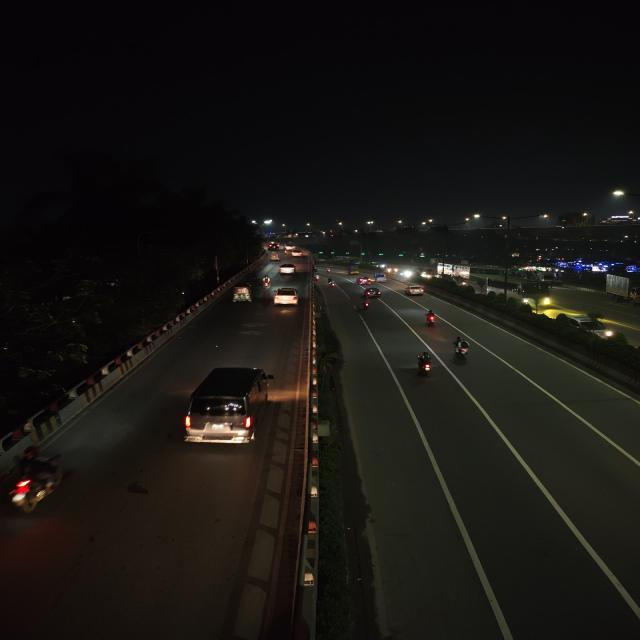bus: (180, 362, 275, 450)
car: (554, 311, 620, 341), (272, 286, 300, 308), (364, 286, 384, 300), (403, 284, 426, 296), (276, 262, 296, 275), (287, 248, 303, 258)
cng: (231, 283, 253, 304)
motorcycle: (2, 450, 67, 516), (448, 334, 474, 366), (412, 350, 436, 380), (420, 308, 440, 328), (360, 296, 373, 312), (261, 276, 274, 288), (326, 277, 338, 288)
pickup_van: (373, 272, 387, 282)
truck: (487, 280, 554, 308), (605, 271, 640, 307), (346, 265, 359, 276)
